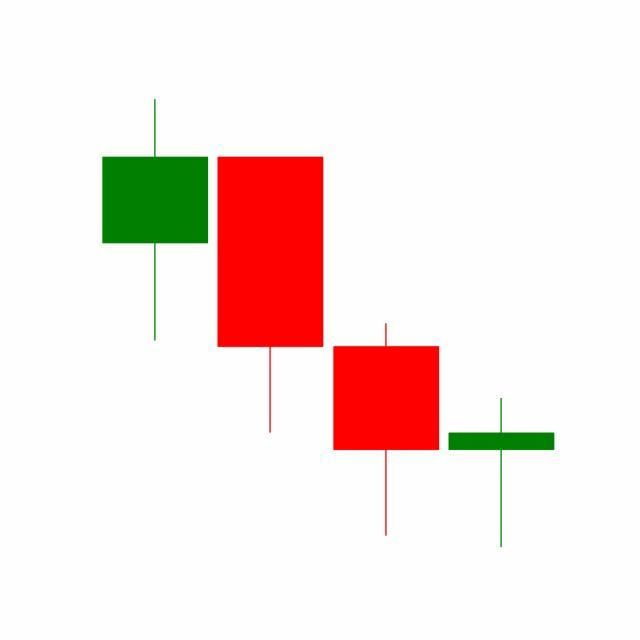Dragonfly Doji: (444, 397, 560, 550)
